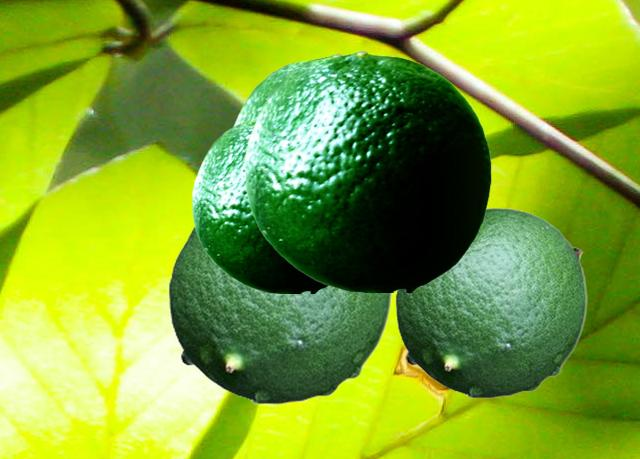calamansi: (245, 50, 490, 291), (168, 225, 391, 403), (395, 207, 586, 397), (192, 120, 327, 292), (230, 53, 344, 127)
